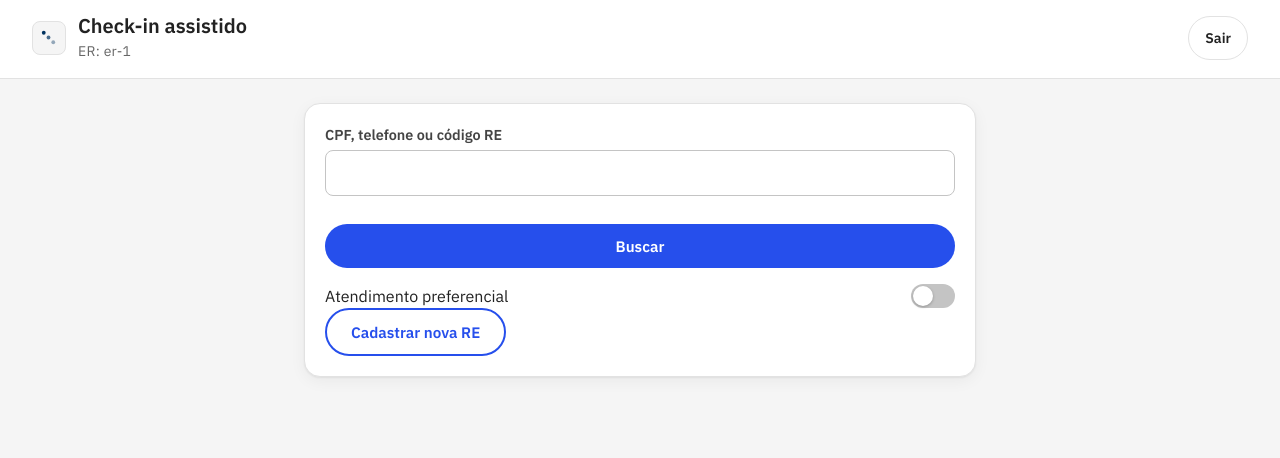
Test case: CheckinAttendantPage › shows a generic message when the search rejects with a non-error value
Type "ana" into the field labelled "CPF, telefone ou código RE" at (640, 173), box [325, 150, 955, 196]
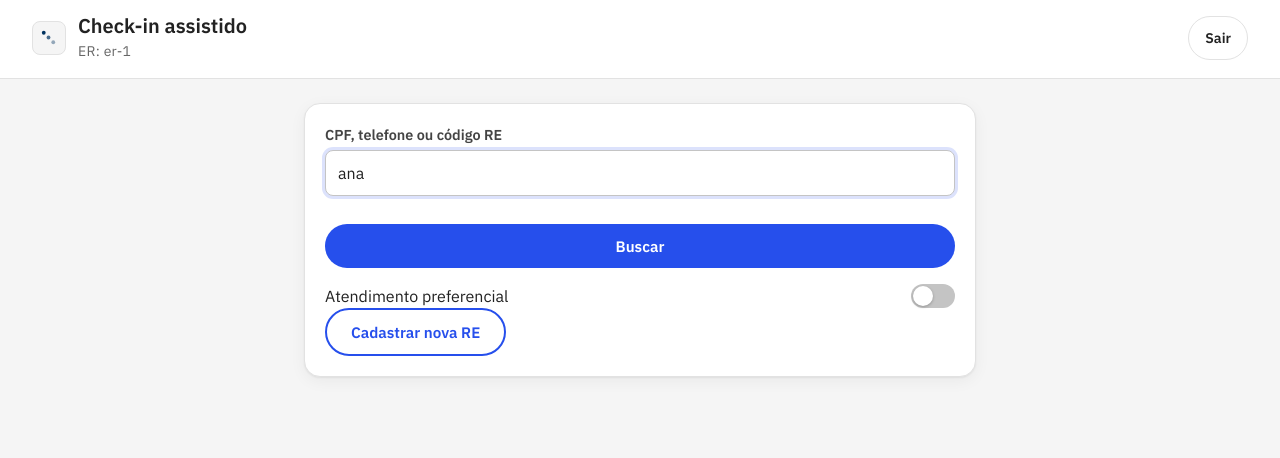
Click the button "Buscar" at (640, 246), box [325, 224, 955, 268]
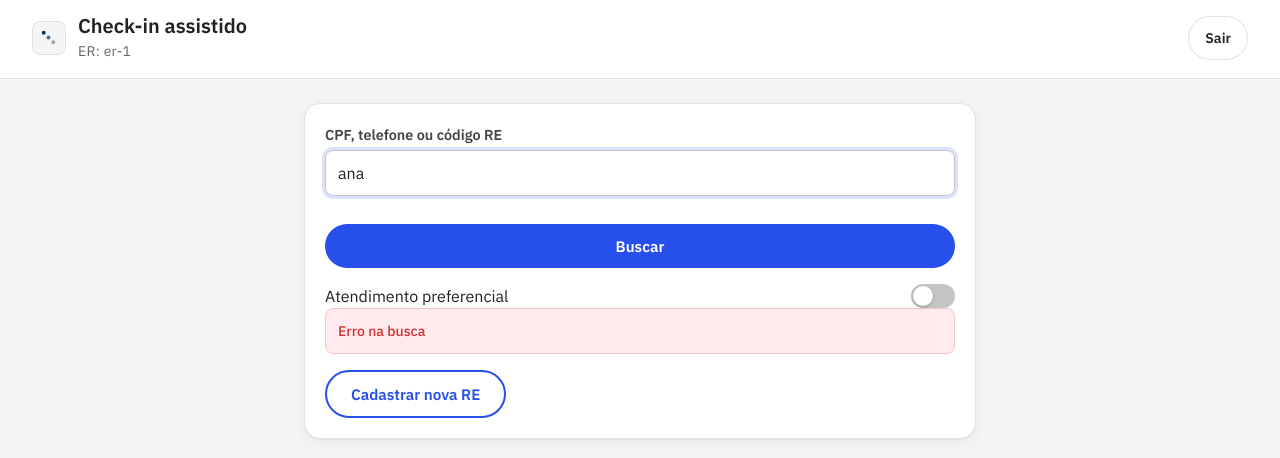
Expected: the text "Erro na busca" is shown, [325, 308, 955, 354]
